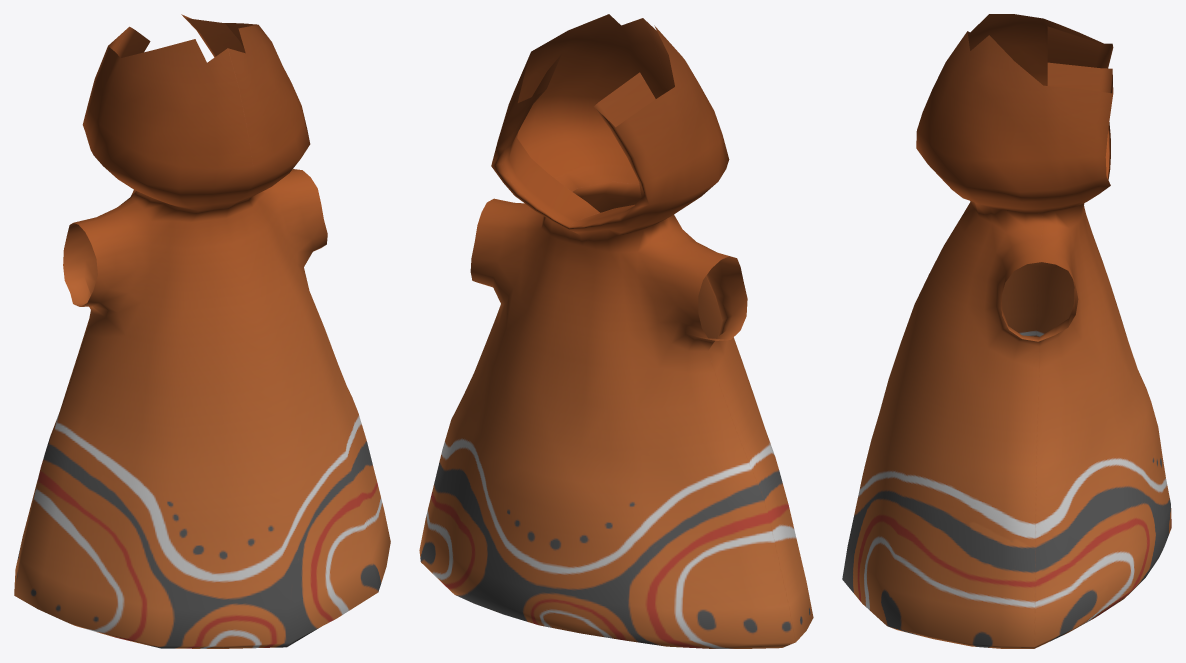
Rendered from clothForBurn.fbx.
The picture shows the model from 3 angles, left to right: view 1: azimuth 30°, elevation 25°; view 2: azimuth 150°, elevation 25°; view 3: azimuth 270°, elevation 25°; orthographic projection. The views are drawn at different scales.
Parts seen in each view (by area): view 1: polySurface3; view 2: polySurface3; view 3: polySurface3.
Boxes of the visible parts, box(x1,y1,x2,y2) form: polySurface3: box(14, 14, 390, 648); polySurface3: box(419, 14, 813, 648); polySurface3: box(842, 14, 1171, 648).
Size of the model in its own units: 76.33 by 114 by 60.56.
